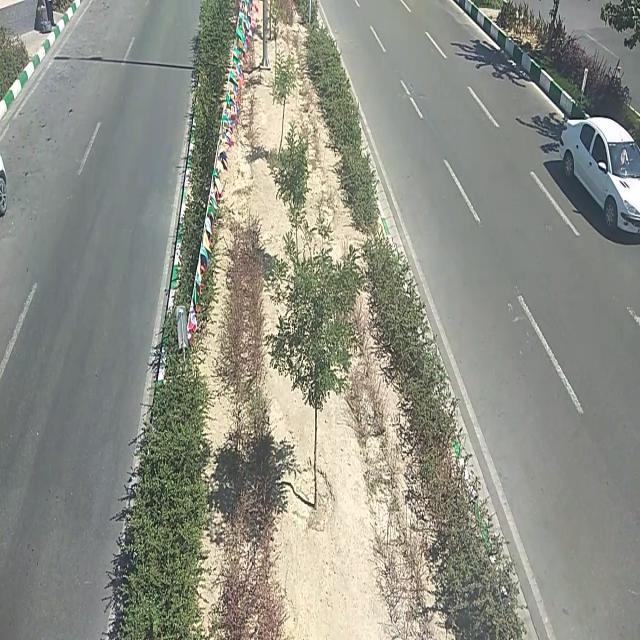car: (557, 115, 640, 229)
